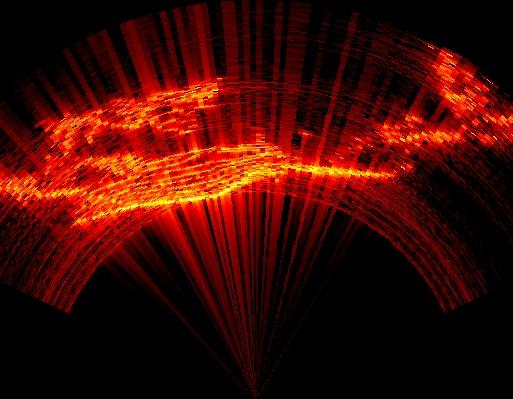shipwreck: (2, 133, 285, 224), (50, 101, 163, 155), (439, 53, 502, 124), (164, 92, 212, 141), (435, 65, 469, 127), (282, 161, 395, 178), (385, 126, 423, 145), (424, 128, 455, 140), (430, 139, 465, 143), (435, 52, 440, 58)
